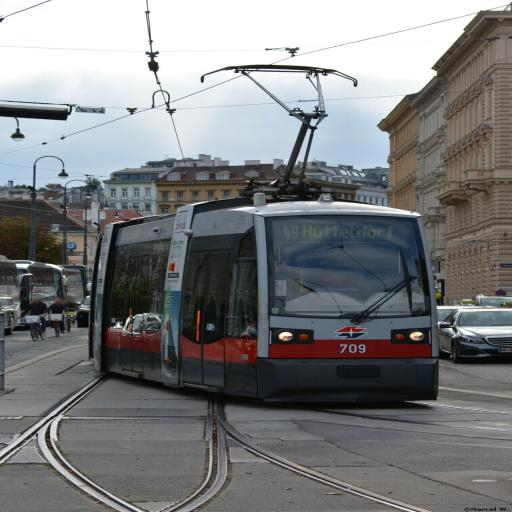ULF: (84, 198, 443, 402)
